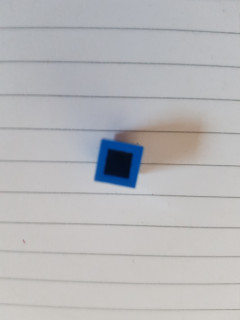1x1 blue: (90, 136, 146, 191)
